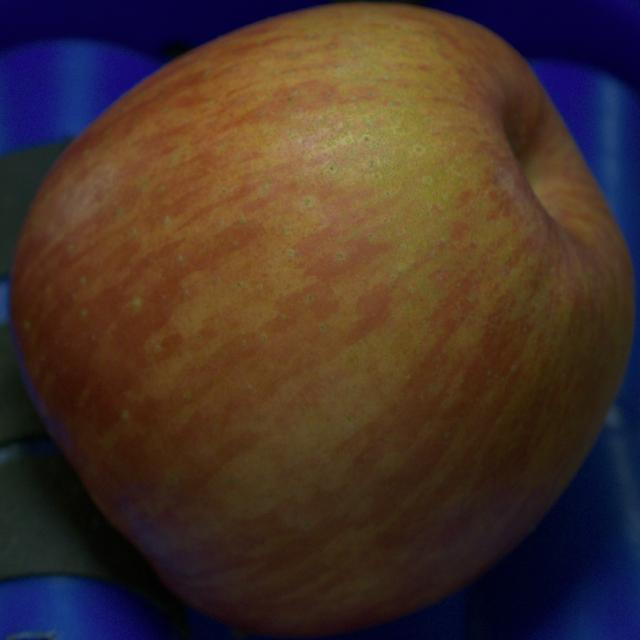apple: (10, 4, 634, 636)
